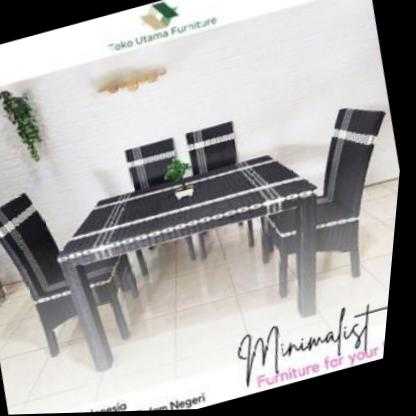Dining Table: (0, 56, 411, 393)
